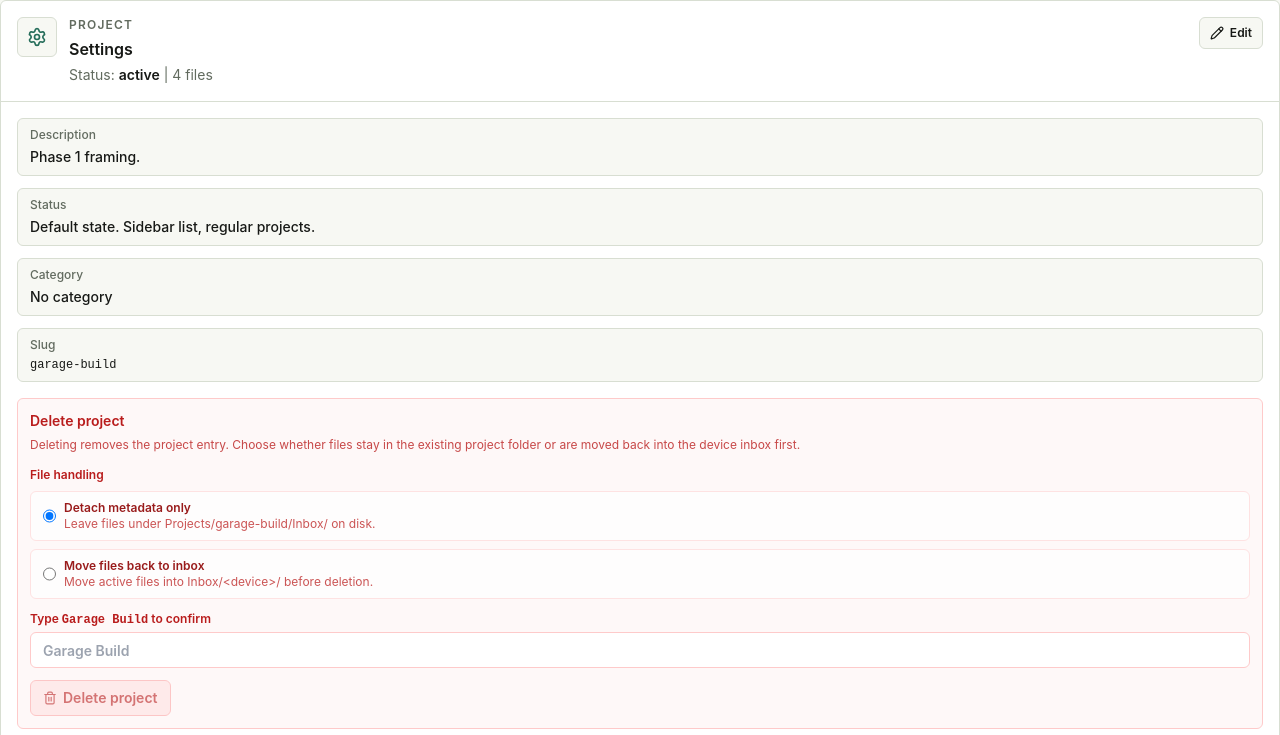
Test case: ProjectSettingsCard › submits a status change via PATCH
Click the button "Edit" at (1231, 33), box [1199, 17, 1263, 49]
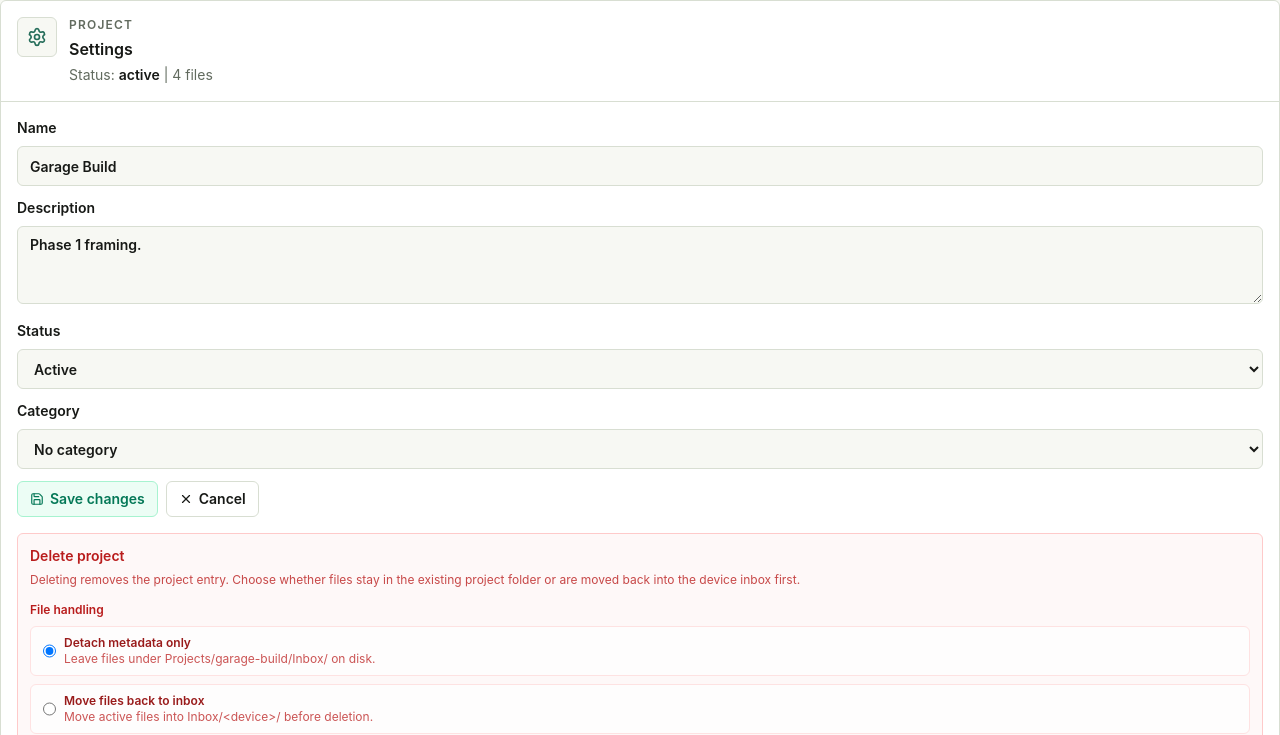
Select "Complete" in the dropdown labelled "Status" at (640, 369), box [17, 349, 1263, 389]
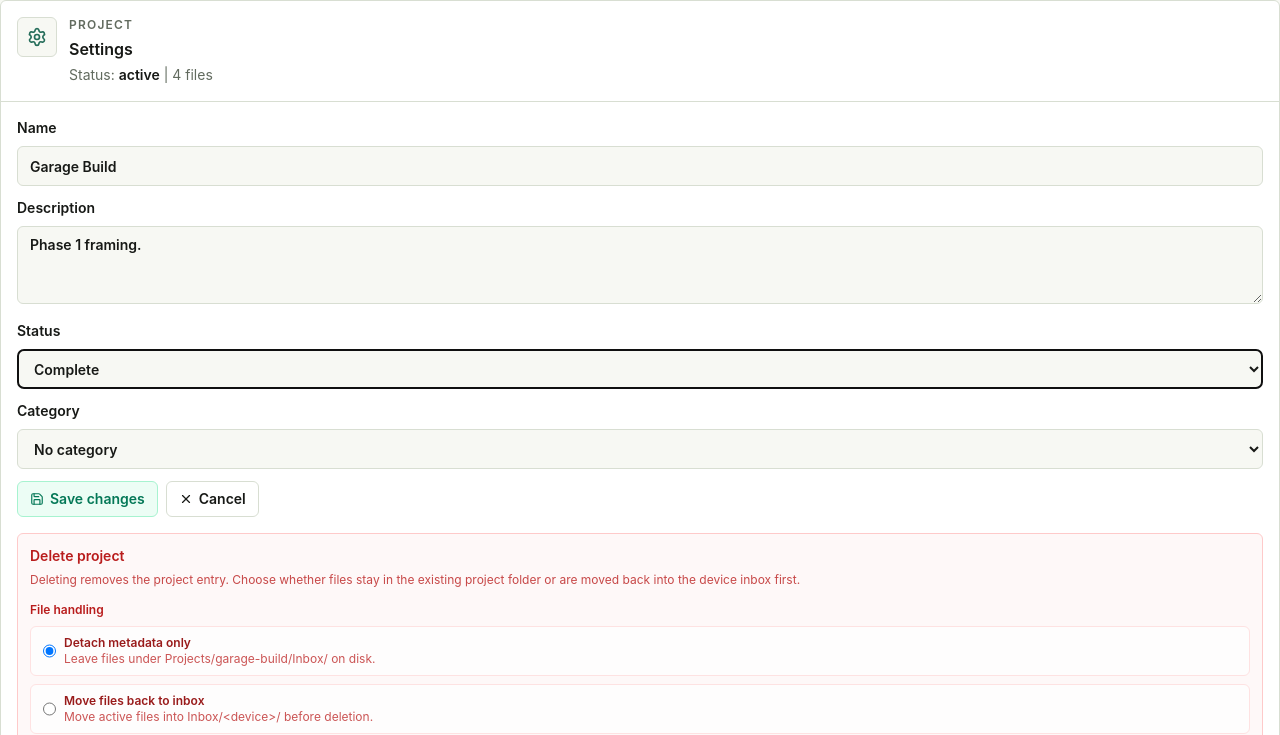
Click the button "Save changes" at (87, 499), box [17, 481, 158, 517]
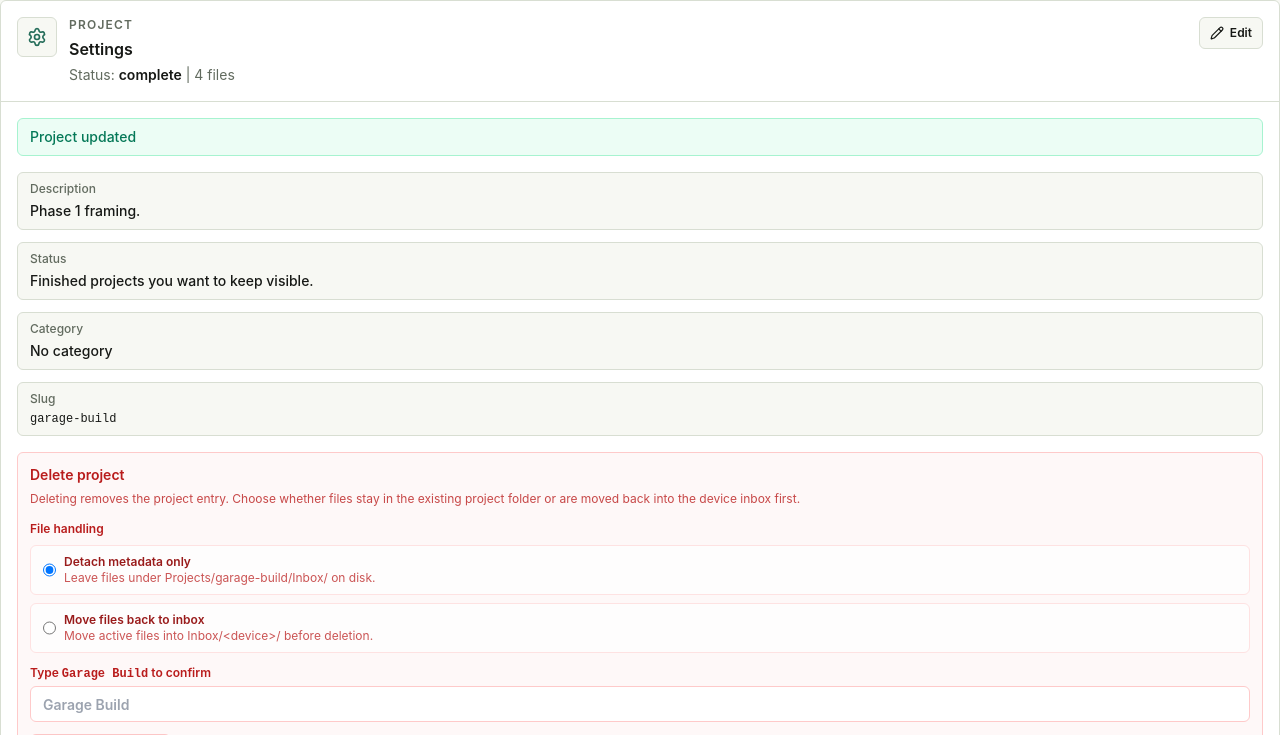
Now the message reads "Project updated", box [30, 128, 136, 145]
